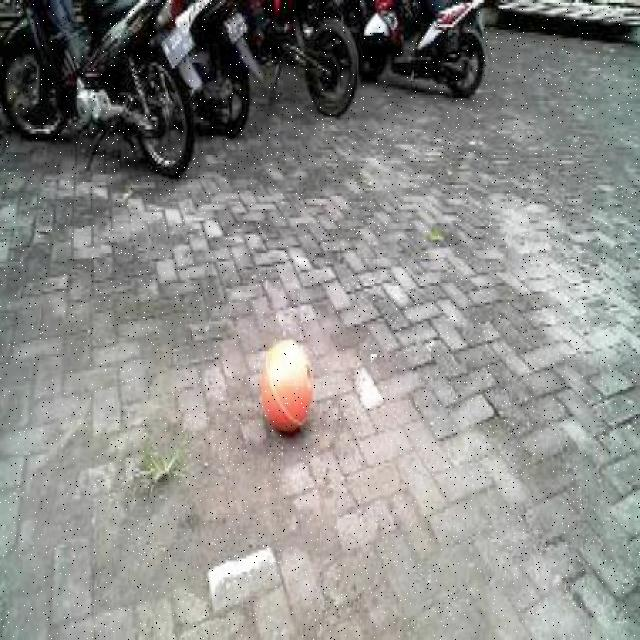buoy: (253, 328, 319, 443)
